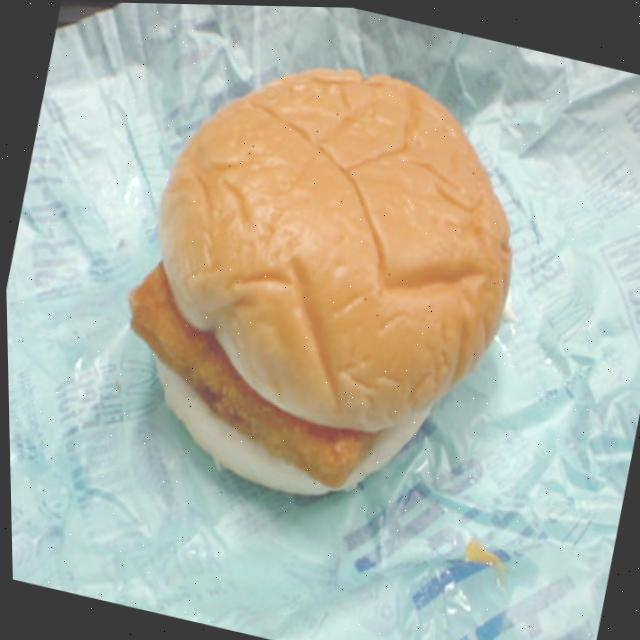汉堡快餐: (72, 23, 550, 544)
